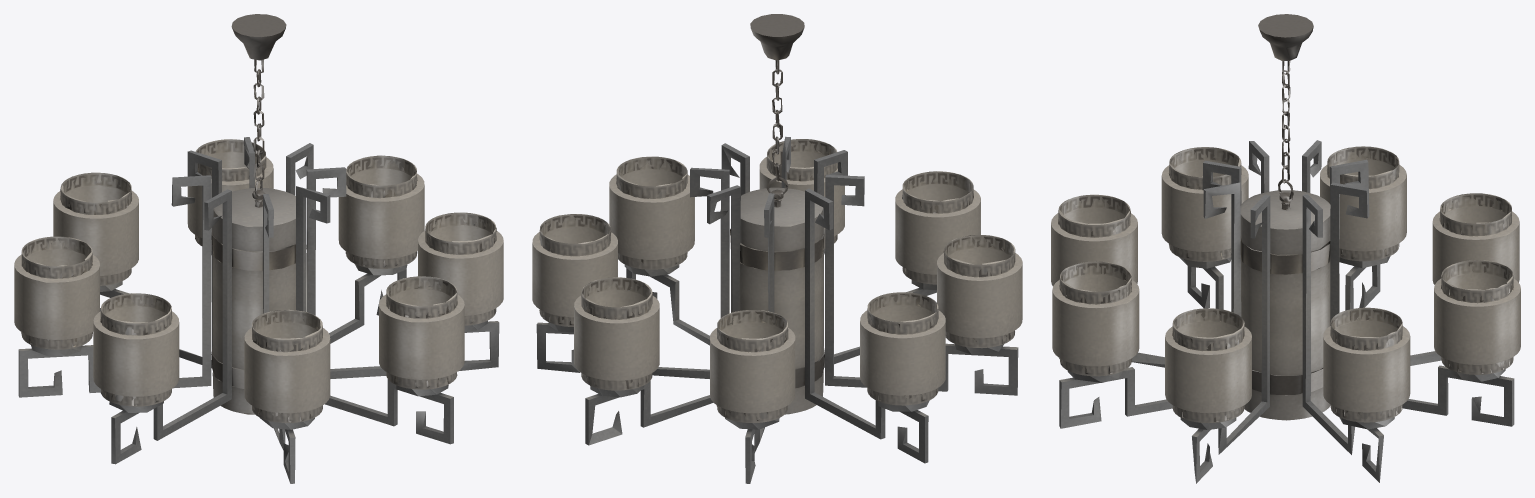
3 renders of one model, left to right at view 1: azimuth 30°, elevation 25°; view 2: azimuth 150°, elevation 25°; view 3: azimuth 270°, elevation 25°, orthographic.
Parts seen in each view (by area): view 1: glass_001, solid_003, solid_001; view 2: glass_001, solid_003, solid_001; view 3: glass_001, solid_003, solid_001.
Part boxes in pixels (x1,y1,x2,y2): glass_001: (14, 139, 503, 423); solid_003: (18, 137, 499, 483); solid_001: (21, 14, 496, 422); glass_001: (532, 139, 1022, 422); solid_003: (536, 136, 1018, 483); solid_001: (539, 14, 1014, 420); glass_001: (1051, 146, 1520, 423); solid_003: (1059, 140, 1514, 483); solid_001: (1058, 14, 1513, 421).
Bounding box in the file's own units: 1.43 × 1.29 × 1.43.
1 material, 1 textured.
